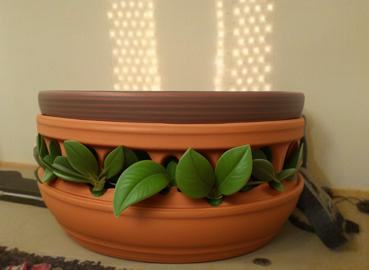pottedplant: (36, 91, 304, 263)
